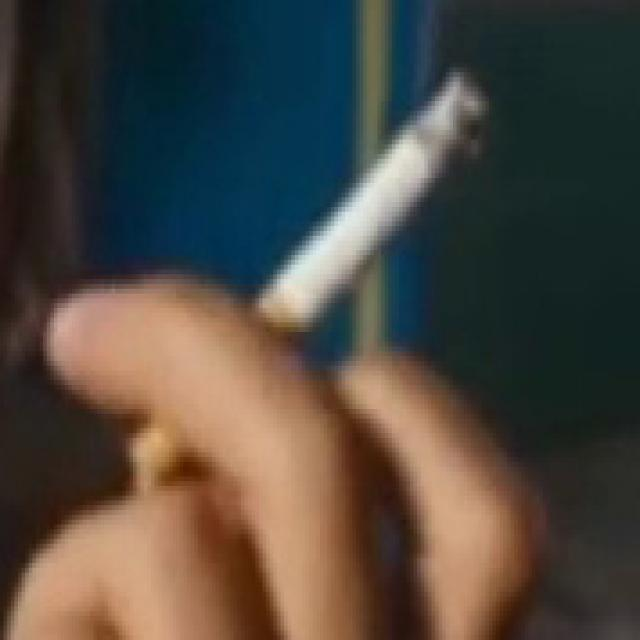smoking: (127, 65, 490, 482)
